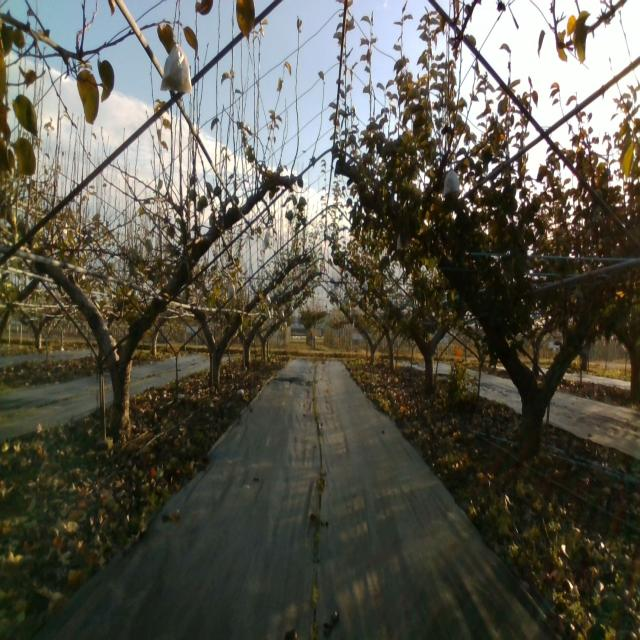pearbags: (159, 44, 193, 94), (443, 168, 461, 196)
